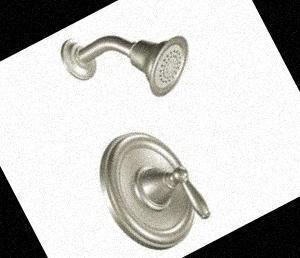Ducha: (26, 0, 271, 258)
